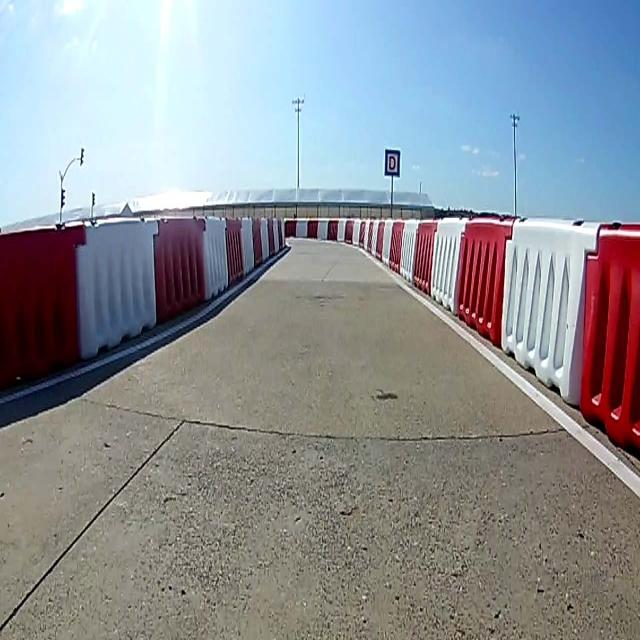durak: (384, 146, 400, 176)
